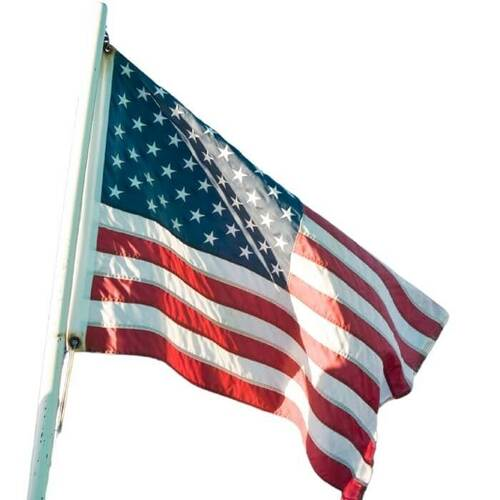America flag: (68, 39, 451, 499)
